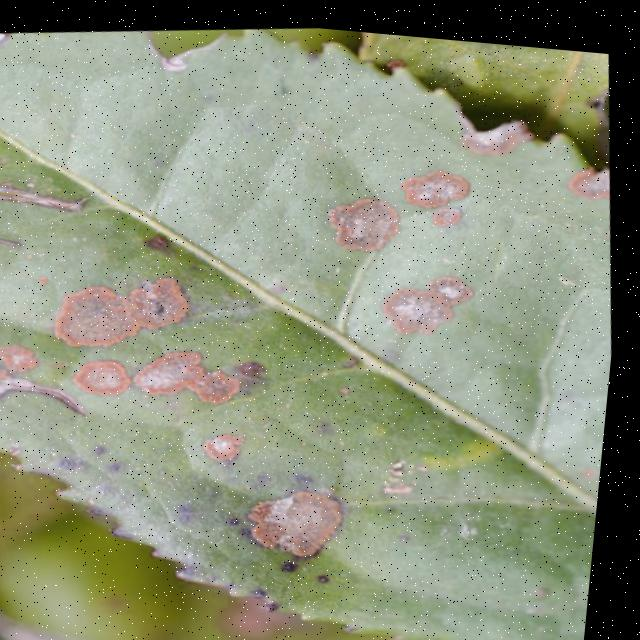Tea red rust: (0, 23, 638, 601)
